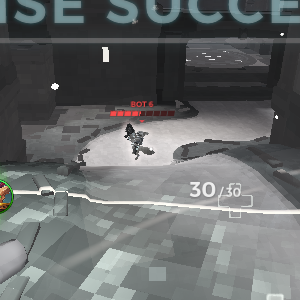model: (121, 123, 148, 161)
